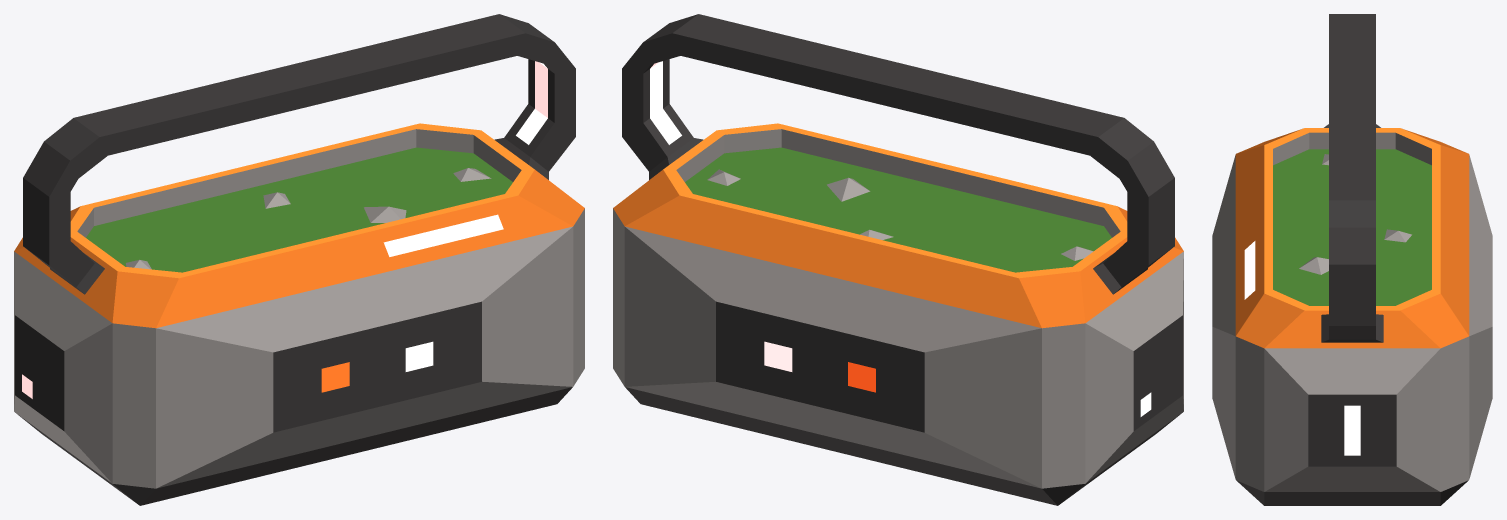
File: scifi_scifi-pot-medium-empty.fbx
The picture shows the model from 3 angles, left to right: view 1: azimuth 30°, elevation 25°; view 2: azimuth 150°, elevation 25°; view 3: azimuth 270°, elevation 25°; orthographic projection. The views are drawn at different scales.
Visible parts, largest first — view 1: scifi_scifi_pot_medium_empty; view 2: scifi_scifi_pot_medium_empty; view 3: scifi_scifi_pot_medium_empty.
Boxes of the visible parts, box(x1,y1,x2,y2) form: scifi_scifi_pot_medium_empty: box(14, 14, 584, 505); scifi_scifi_pot_medium_empty: box(613, 14, 1183, 505); scifi_scifi_pot_medium_empty: box(1212, 14, 1492, 505).
Bounding box in the file's own units: 200 × 125 × 103.
